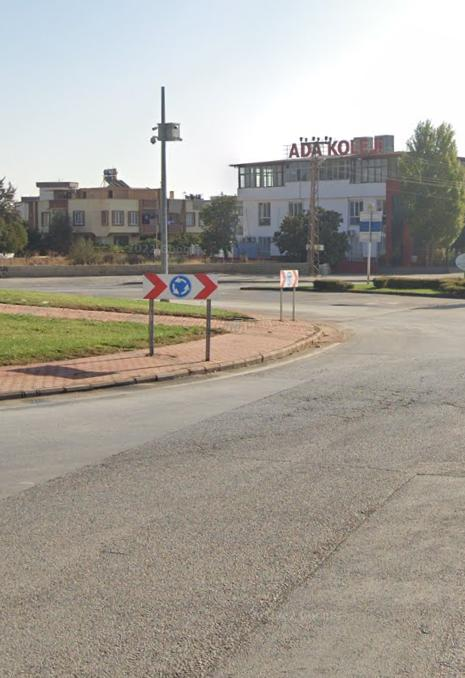crossroads: (169, 277, 192, 298)
